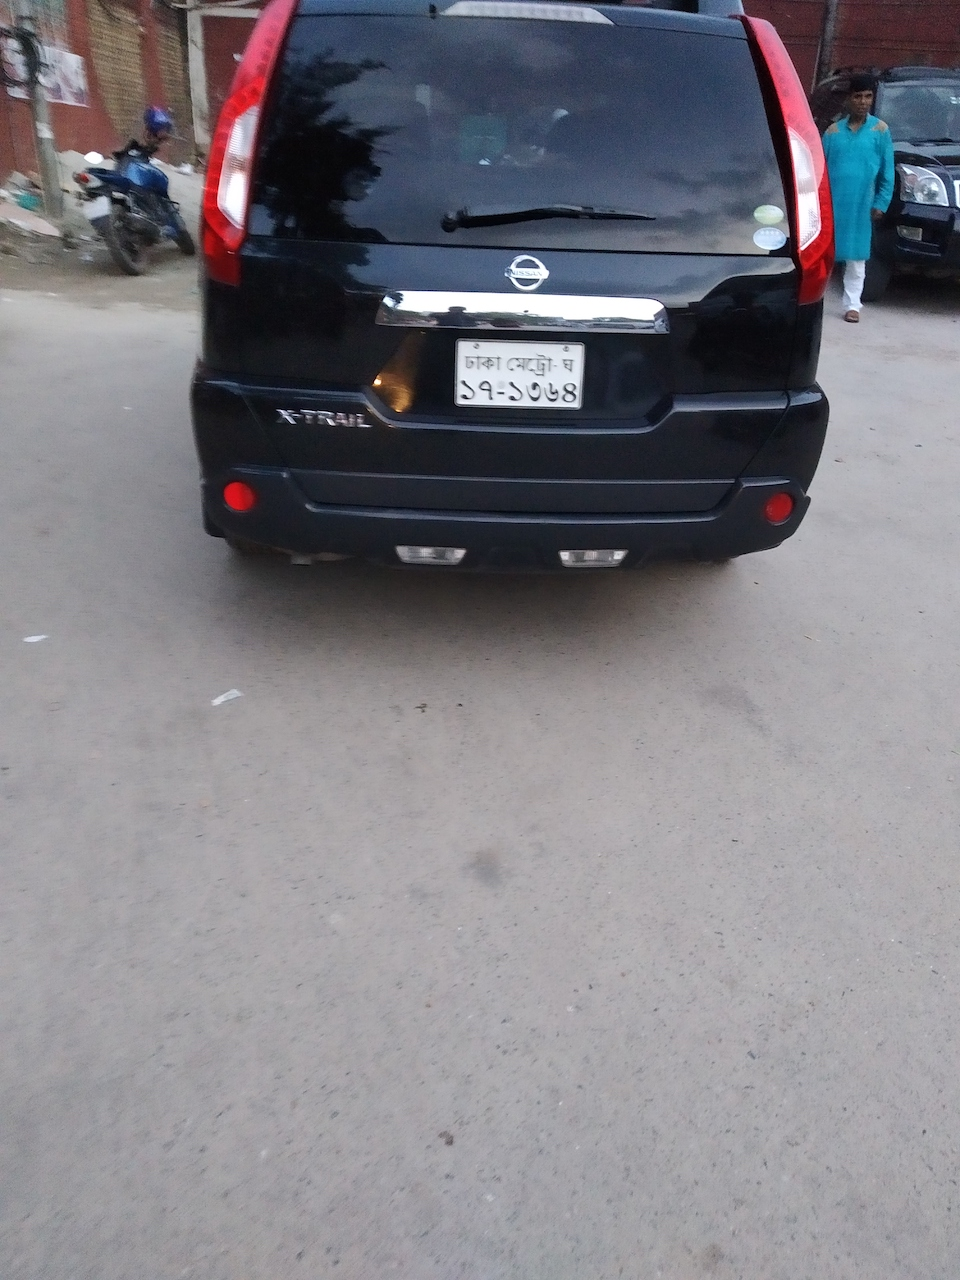registration_plate: (454, 338, 585, 412)
